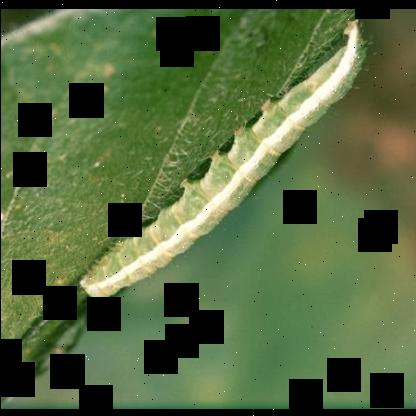oruga: (62, 15, 374, 315)
